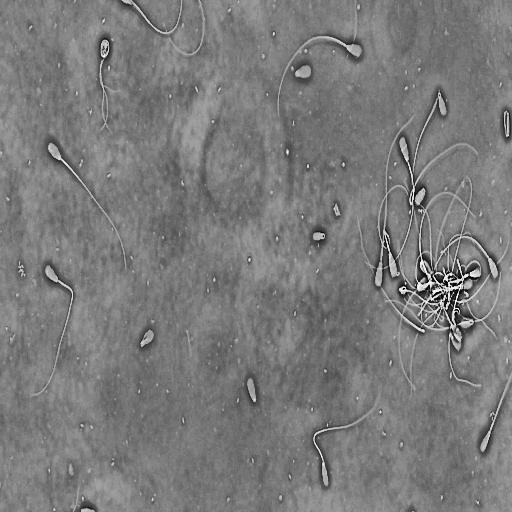dirt-particles: (331, 198, 343, 219), (100, 37, 111, 59)
folded-tail: (32, 279, 73, 396), (313, 398, 379, 461), (413, 92, 440, 170), (378, 185, 409, 249), (384, 230, 390, 248)
loose-head: (246, 374, 258, 405), (294, 62, 313, 81), (140, 327, 155, 348), (414, 185, 427, 208), (311, 229, 326, 244)
loose-tail: (354, 213, 427, 335)
normal: (46, 137, 129, 273), (372, 112, 416, 291), (277, 32, 364, 119), (363, 132, 416, 272), (312, 395, 380, 490), (32, 264, 74, 396), (432, 230, 501, 283), (377, 183, 410, 281), (412, 86, 448, 173)
